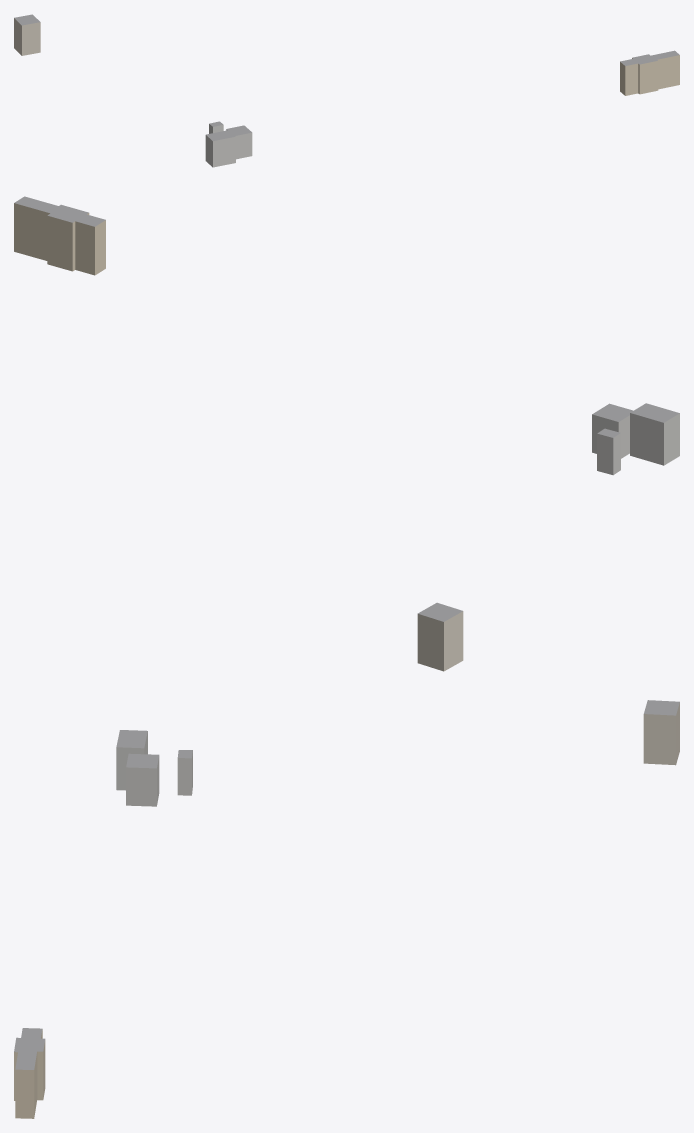
Rendered from building_2_-4.glb.
3 views of the same model, one above another, from view 1: azimuth 30°, elevation 25°; view 2: azimuth 150°, elevation 25°; view 3: azimuth 270°, elevation 25° (orthographic). The views are drawn at different scales.
Parts seen in each view (by area): view 1: sandstone, concrete_light, roof, concrete_warm; view 2: sandstone, concrete_light, roof, concrete_warm; view 3: concrete_light, roof, concrete_warm, sandstone.
Boxes of the visible parts, x1,y1,x2,y2 form: sandstone: (620,55,679,95); concrete_light: (205,124,252,167); roof: (14,14,679,140); concrete_warm: (14,18,40,55); sandstone: (14,203,105,275); concrete_light: (592,413,679,475); roof: (14,196,679,621); concrete_warm: (417,611,463,671); concrete_light: (116,731,192,806); roof: (14,700,679,1069); concrete_warm: (643,702,679,765); sandstone: (14,1029,45,1118).
Size of the model in its own units: 220 by 13.77 by 168.
